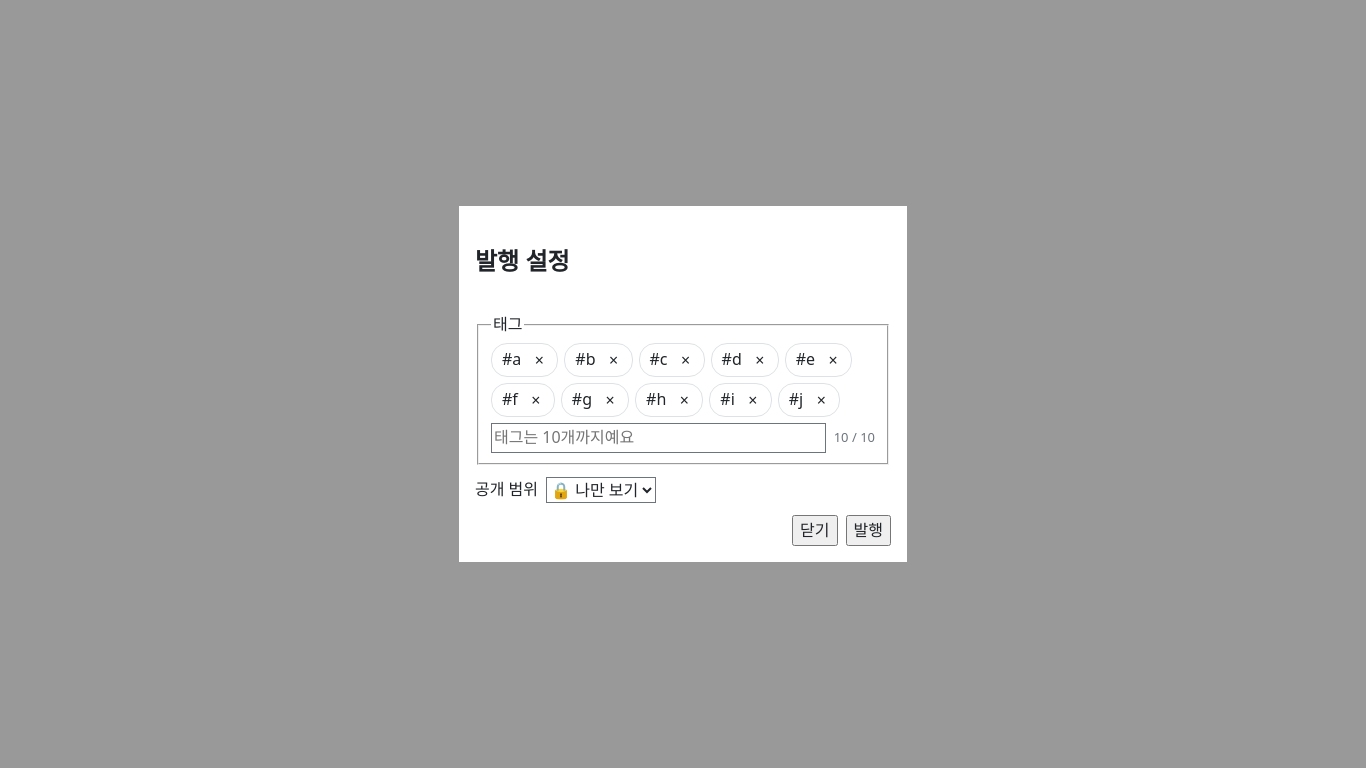
Scenario: PublishDialog › 태그는 최대 10개까지 넣는다
Expected: the dropdown named "태그 입력" is disabled, [491,423,826,453]
Click the button named "j 태그 빼기".
click(821, 400)  # box [807,386,835,414]
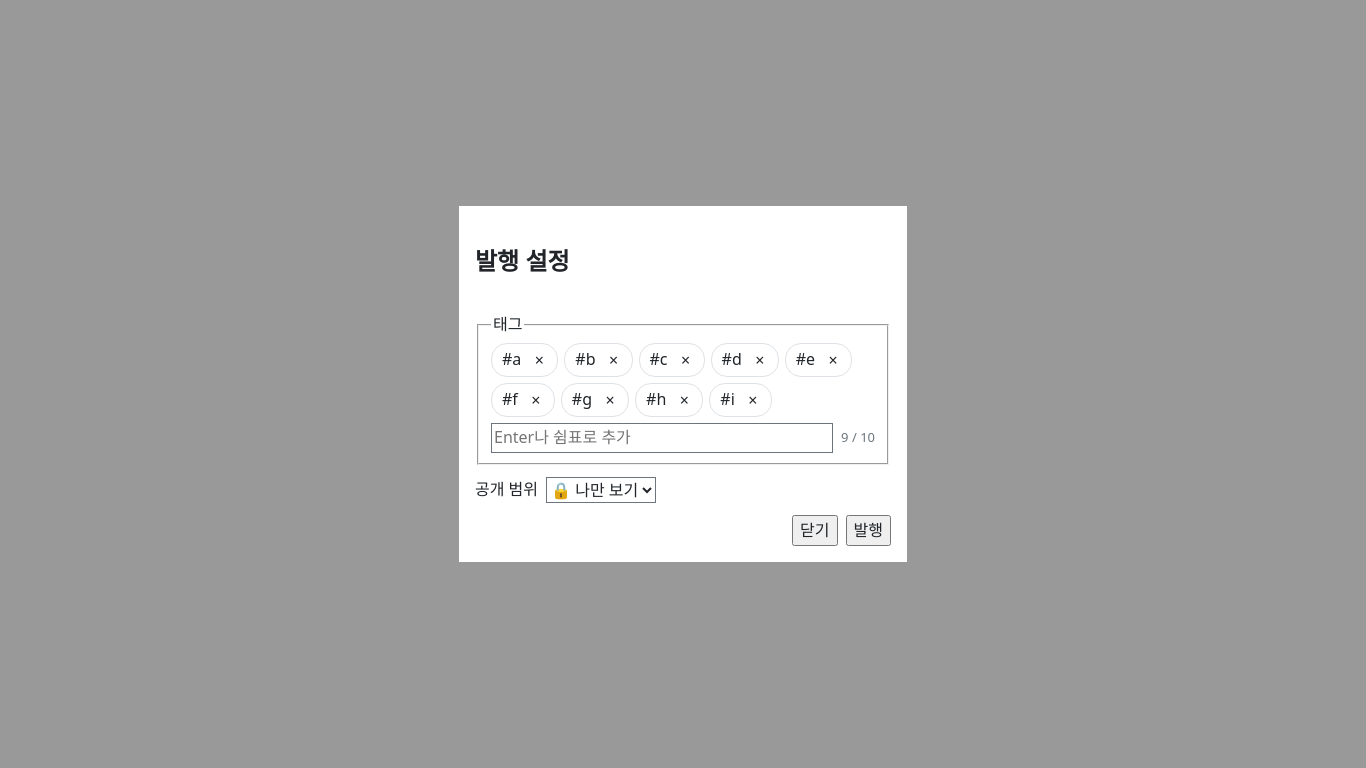
Result: the dropdown named "태그 입력" is enabled at [491,423,833,453]
